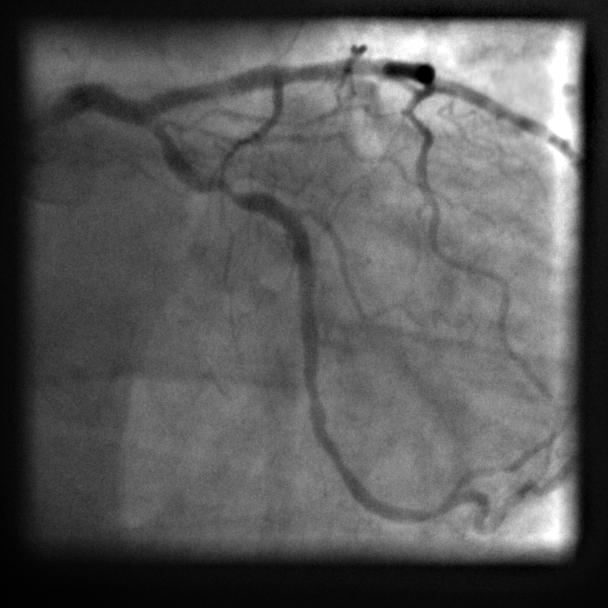Stenosis: (209, 179, 234, 198)
